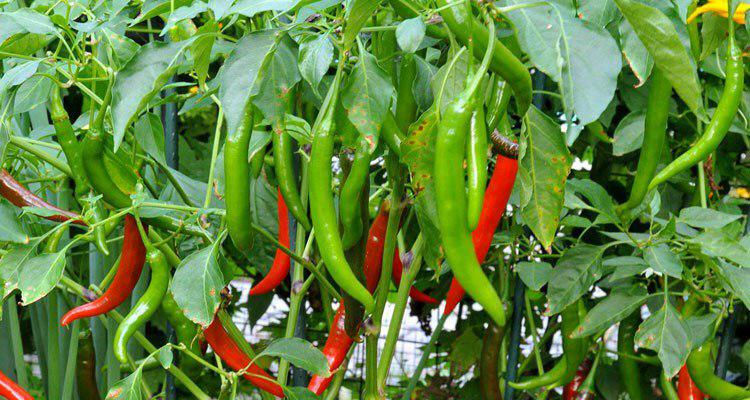lada hijau: (422, 87, 515, 332), (646, 29, 748, 202), (309, 97, 378, 319), (81, 120, 202, 241), (606, 54, 684, 225), (436, 1, 547, 116), (109, 243, 180, 376), (51, 87, 107, 248), (537, 282, 605, 400), (220, 101, 265, 265), (462, 63, 499, 238)
lada merah: (305, 195, 418, 398), (438, 145, 526, 321), (53, 210, 154, 335), (246, 179, 317, 300), (1, 167, 96, 234)
